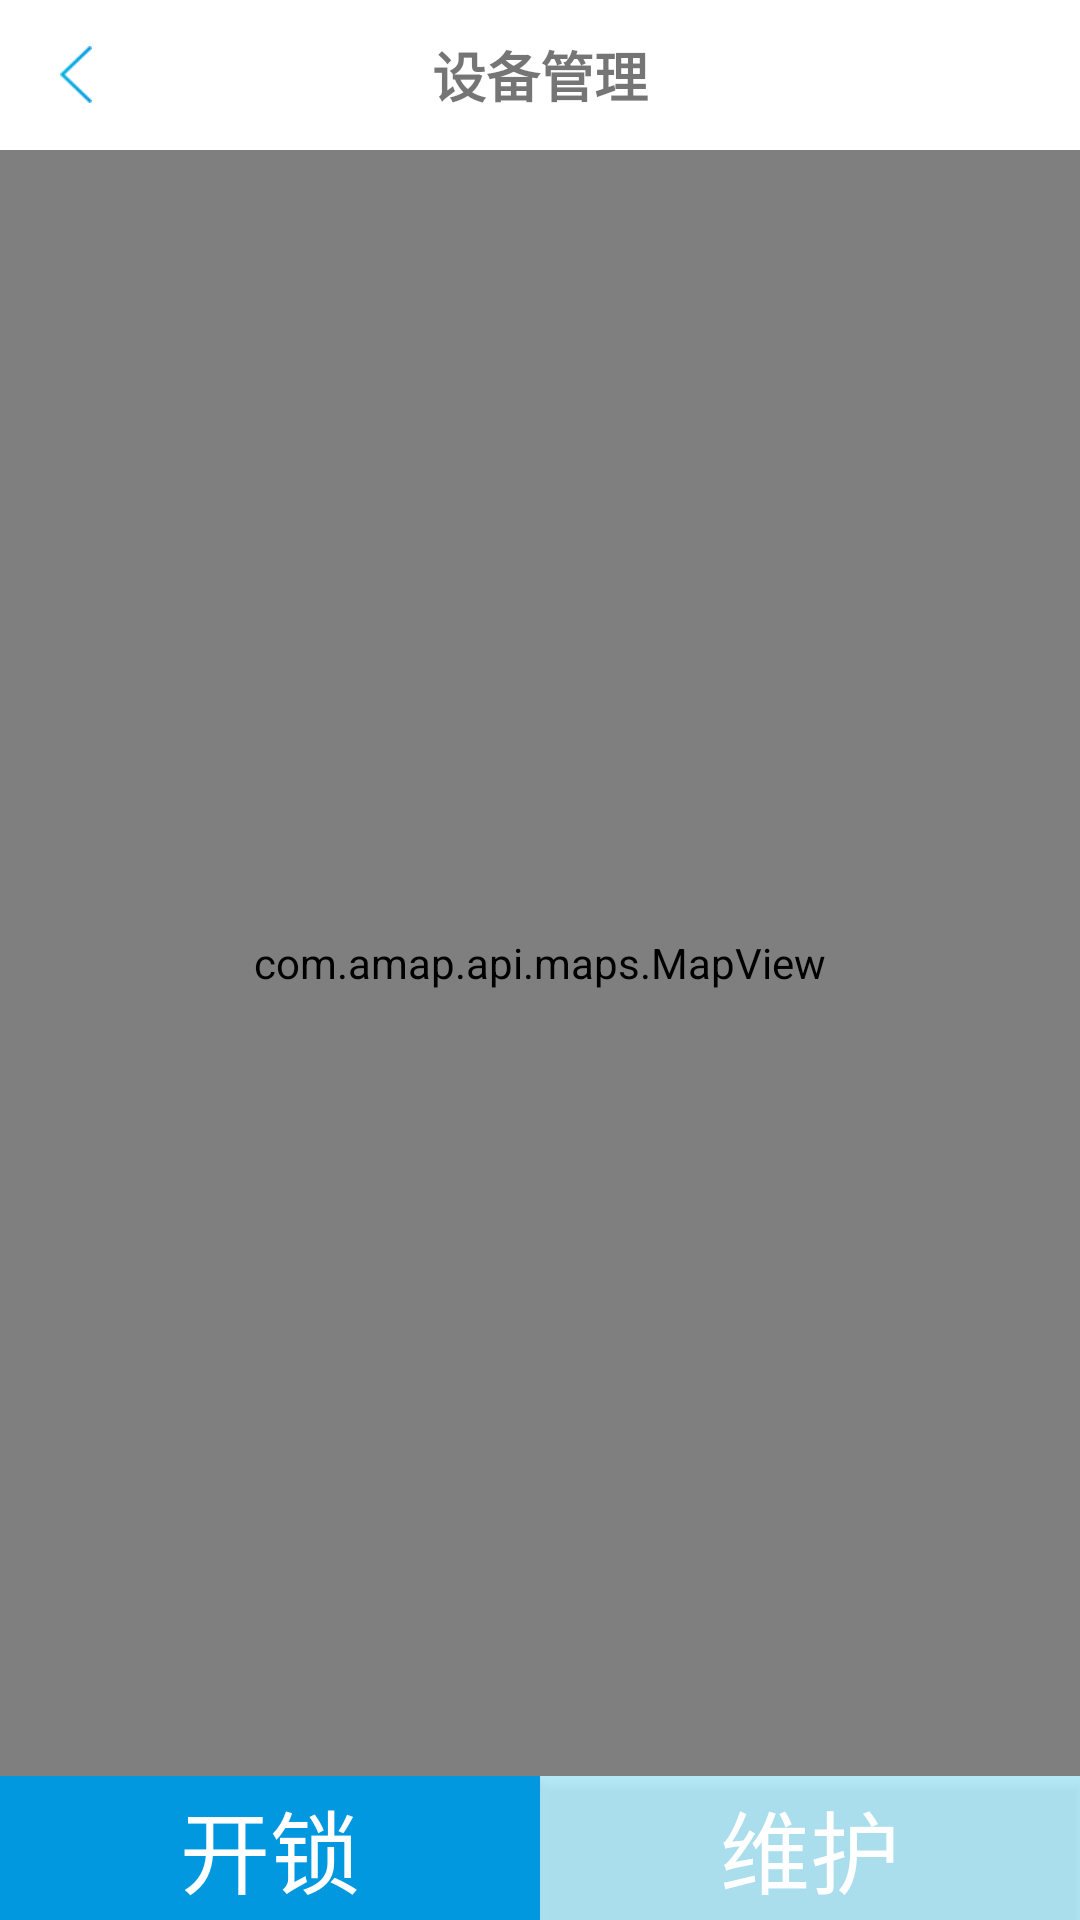

Icons on this 1080×1920 Android screen, each with the point to tap as [x,y]:
back: [76,74]
